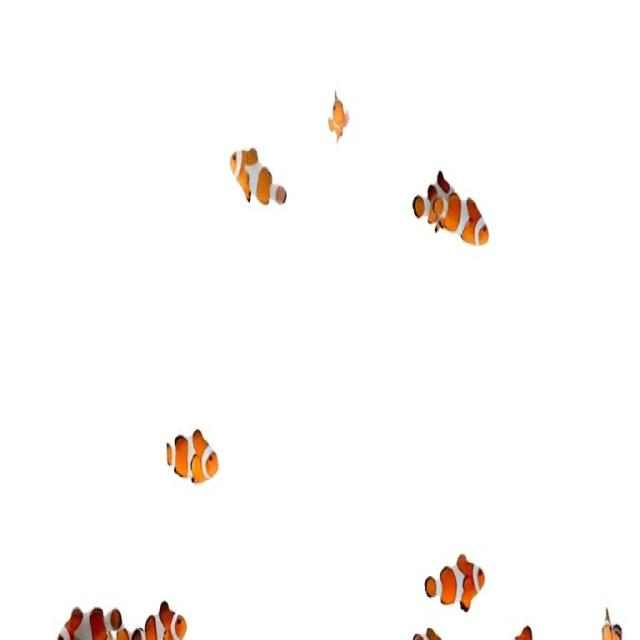fish: (421, 548, 488, 618), (166, 413, 221, 488), (230, 144, 286, 212), (134, 600, 193, 640), (59, 602, 123, 638), (329, 94, 351, 143)
